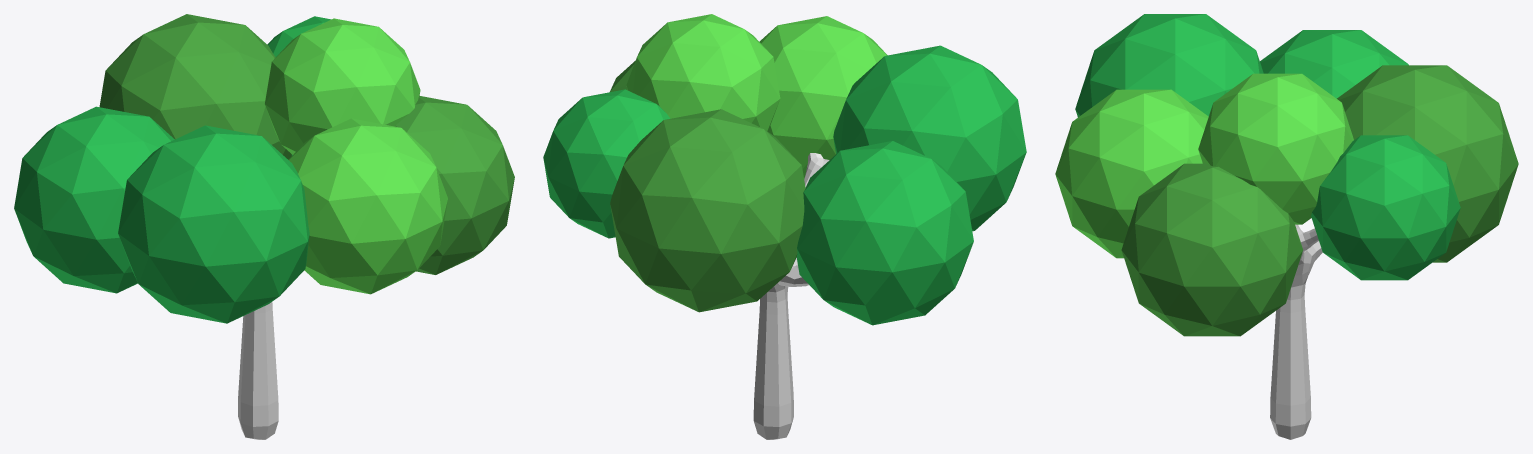
The model's file is Tree1.fbx.
3 renders of one model, left to right at view 1: azimuth 30°, elevation 25°; view 2: azimuth 150°, elevation 25°; view 3: azimuth 270°, elevation 25°, orthographic.
Parts seen in each view (by area): view 1: Vert; view 2: Vert; view 3: Vert.
Part boxes in pixels (<box>): Vert: <box>14,14,514,439</box>; Vert: <box>543,14,1026,439</box>; Vert: <box>1055,14,1518,439</box>.
Bounding box in the file's own units: 238 × 222 × 233.
